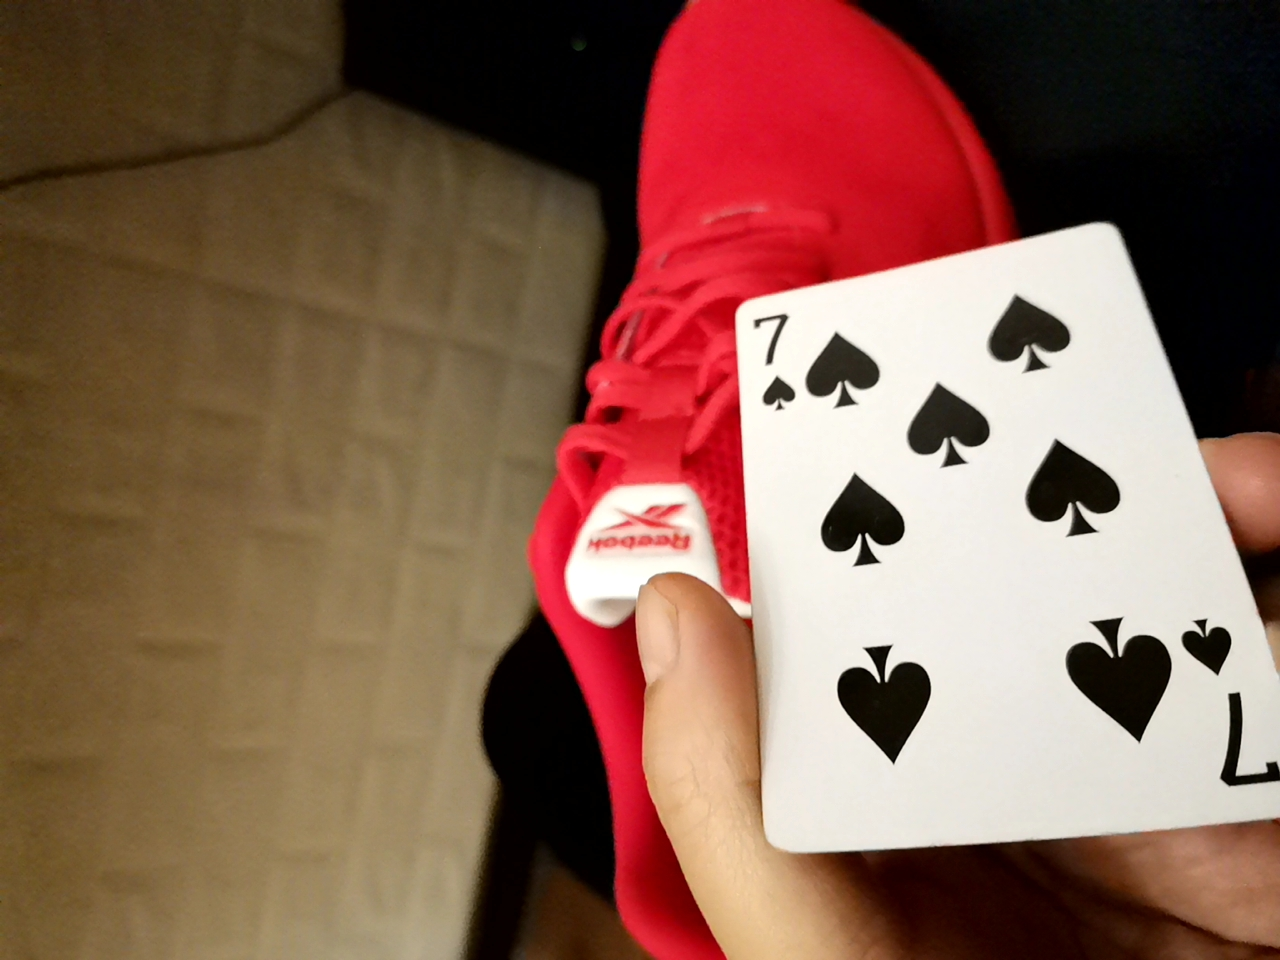ht 7: (705, 220, 1270, 859)
